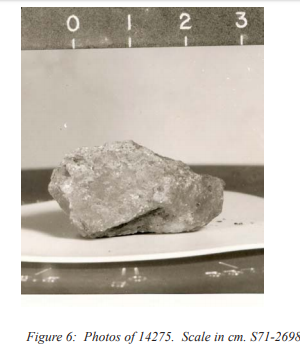Breccia: (42, 116, 234, 247)
